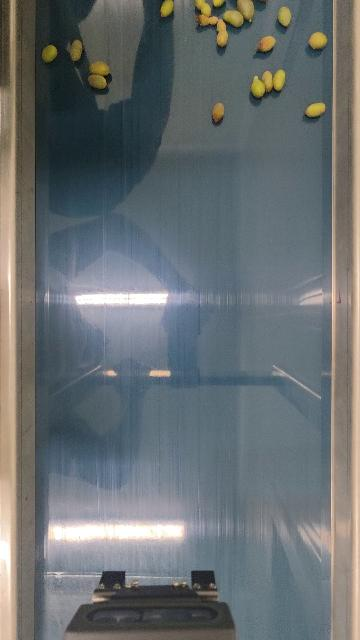Baby Potato: (223, 8, 245, 28), (215, 19, 230, 48), (88, 59, 112, 77), (308, 30, 328, 50), (236, 0, 255, 21), (87, 73, 110, 90), (68, 38, 84, 62), (256, 35, 277, 53), (304, 101, 326, 118), (250, 75, 266, 98), (272, 68, 287, 92), (277, 5, 292, 27), (194, 0, 213, 17), (41, 44, 58, 63), (211, 101, 226, 122), (195, 15, 217, 29), (159, 0, 175, 18), (261, 69, 273, 92), (210, 0, 227, 8)
